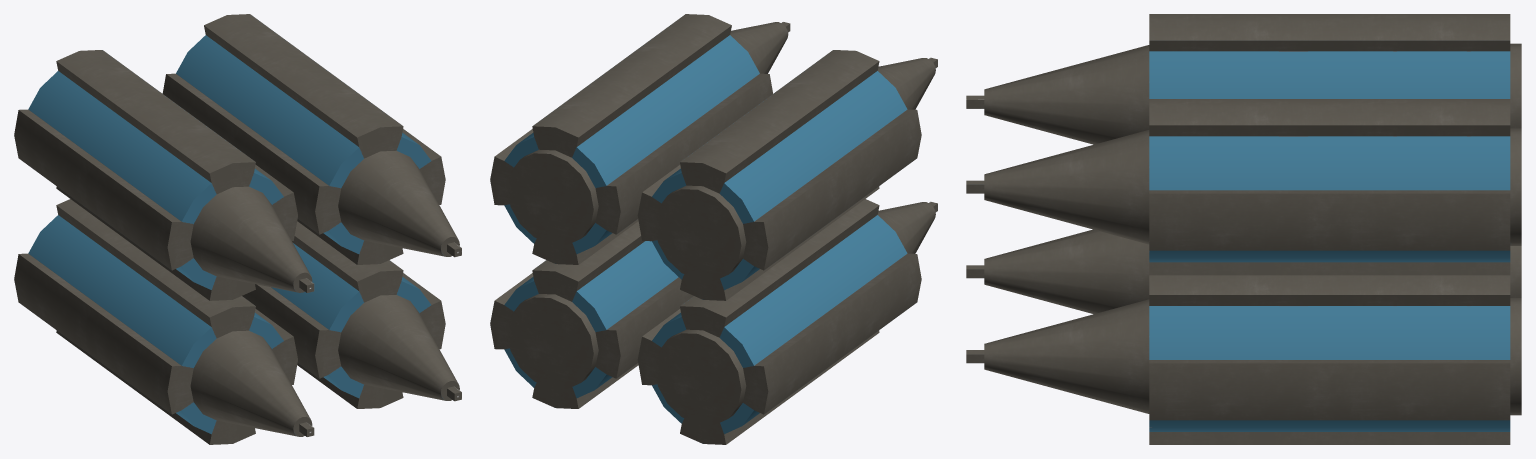
Rendered from Batteries.fbx.
3 views of the same model, side by side, from view 1: azimuth 30°, elevation 25°; view 2: azimuth 150°, elevation 25°; view 3: azimuth 270°, elevation 25° (orthographic). The views are drawn at different scales.
Parts seen in each view (by area): view 1: DP_Battery.006; view 2: DP_Battery.006; view 3: DP_Battery.006.
Part boxes in pixels (x1,y1,x2,y2): DP_Battery.006: [14, 14, 461, 444]; DP_Battery.006: [490, 14, 937, 444]; DP_Battery.006: [966, 14, 1521, 444].
Bounding box in the file's own units: 15.55 × 15.01 × 22.87.
1 material, 1 textured.
